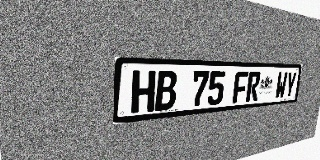5: (207, 71, 225, 106)
7: (190, 71, 210, 108)
B: (155, 71, 177, 111)
F: (232, 71, 249, 103)
H: (131, 70, 156, 114)
R: (245, 71, 261, 102)
W: (274, 72, 288, 99)
Y: (284, 72, 297, 98)
